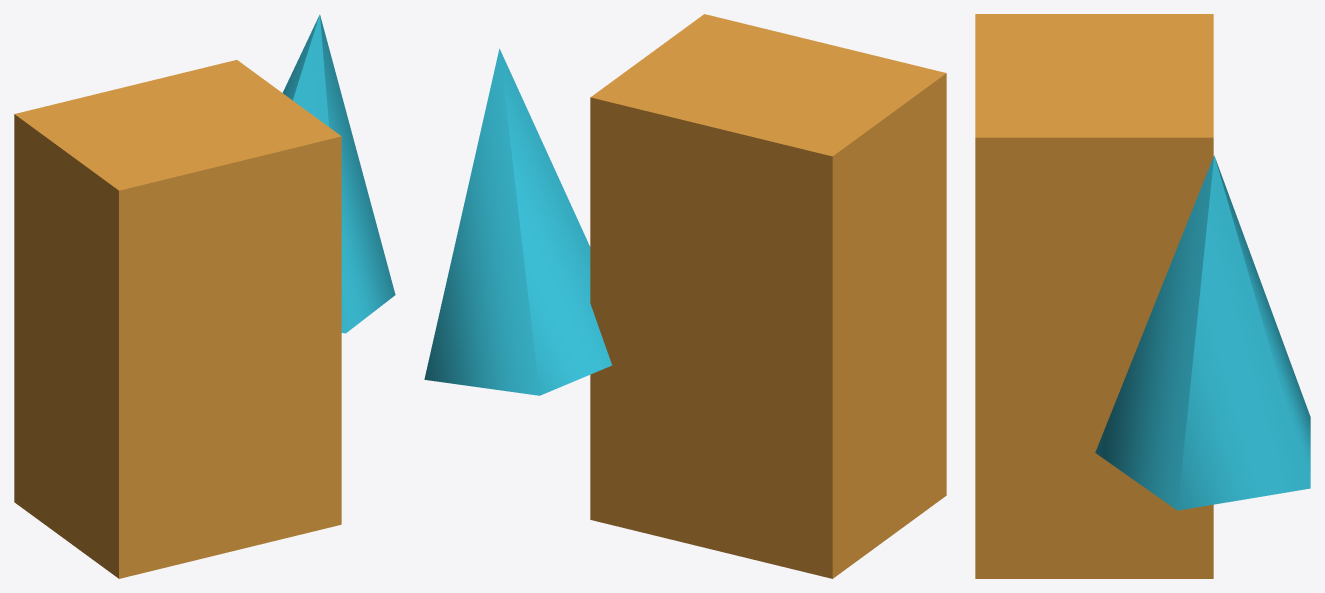
File: frame-11.glb
3 renders of one model, left to right at view 1: azimuth 30°, elevation 25°; view 2: azimuth 150°, elevation 25°; view 3: azimuth 270°, elevation 25°, orthographic. The views are drawn at different scales.
Bounding box in the file's own units: 0.4431 × 0.4792 × 0.3097.
